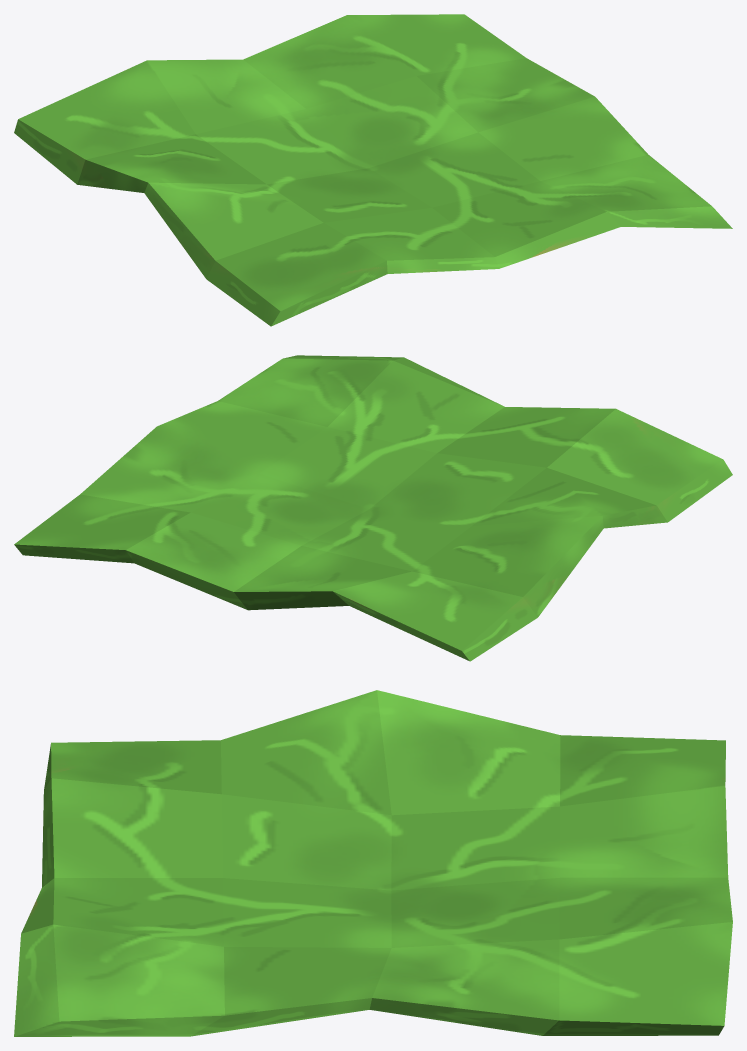
The model's file is Lettuce.glb.
3 renders of one model, top to bottom at view 1: azimuth 30°, elevation 25°; view 2: azimuth 150°, elevation 25°; view 3: azimuth 270°, elevation 25°, orthographic. The views are drawn at different scales.
Visible parts, largest first — view 1: Hamburguer; view 2: Hamburguer; view 3: Hamburguer.
Boxes of the visible parts, x1,y1,x2,y2 form: Hamburguer: (14, 14, 732, 326); Hamburguer: (14, 355, 732, 661); Hamburguer: (14, 690, 732, 1036).
Size of the model in its own units: 2.31 by 0.2875 by 2.46.
Materials: 1 (1 with a texture image).
